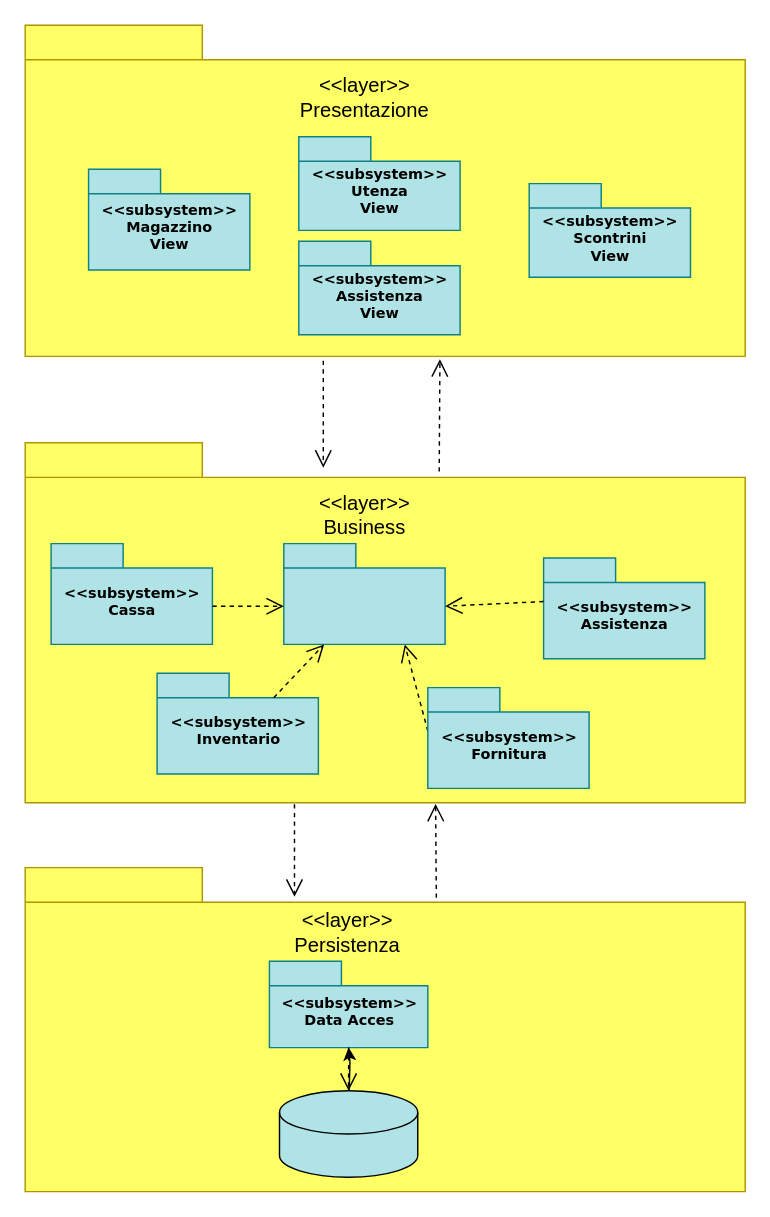
This 770x1217 diagram has some shape labels left out. The shapes that lost their labels are listed below. From the top down, each one's centre as x and y in pixels, then its label:
At pixel 363 593: "<<subsystem>> Utenza".
At pixel 348 1133: "Database".
